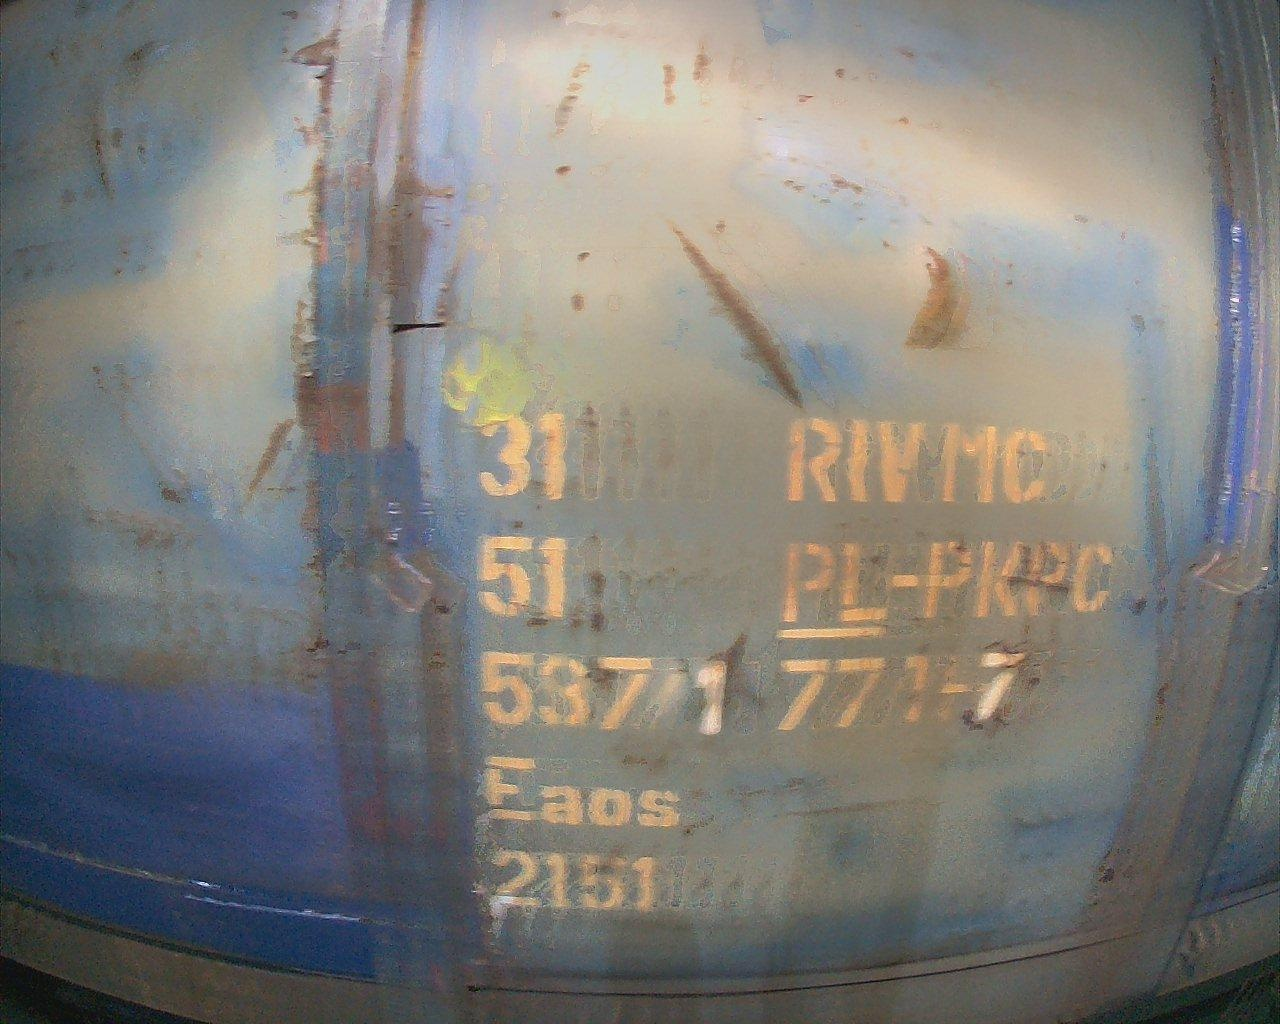UIC: (472, 409, 1112, 913)
